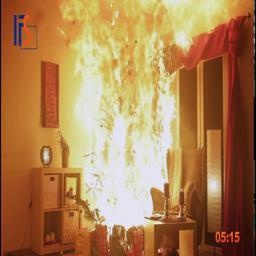fire: (51, 0, 201, 232)
